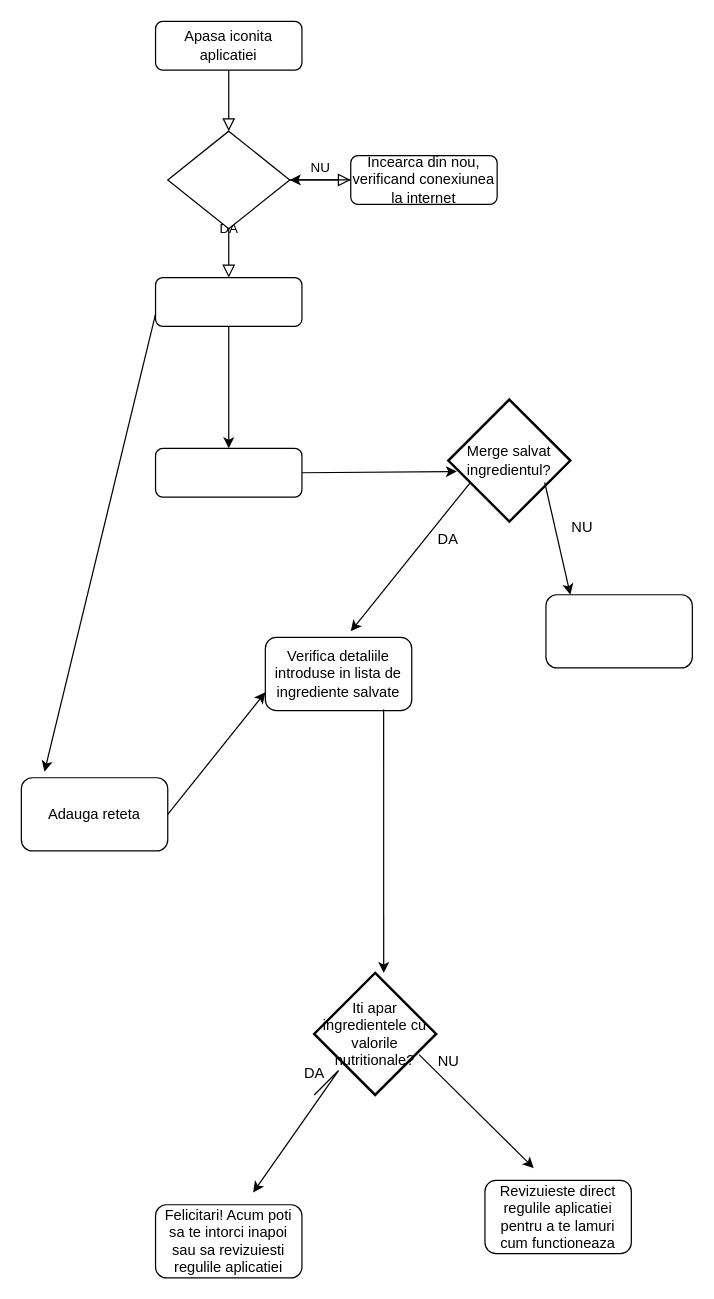
The diagram is 714 pixels wide and 1299 high, and some of its shapes have lost their labels. Here are the shapes that lost their labels. From the top down, the centre of each, then its label:
At pixel 228 179: "Se deschide meniul principal?".
At pixel 228 301: "Apasa butonul de ingredient din meniul principal".
At pixel 228 472: "Adauga ingredient".
At pixel 618 631: "Revizuieste toate valorile nutritionale si incearca din nou".
